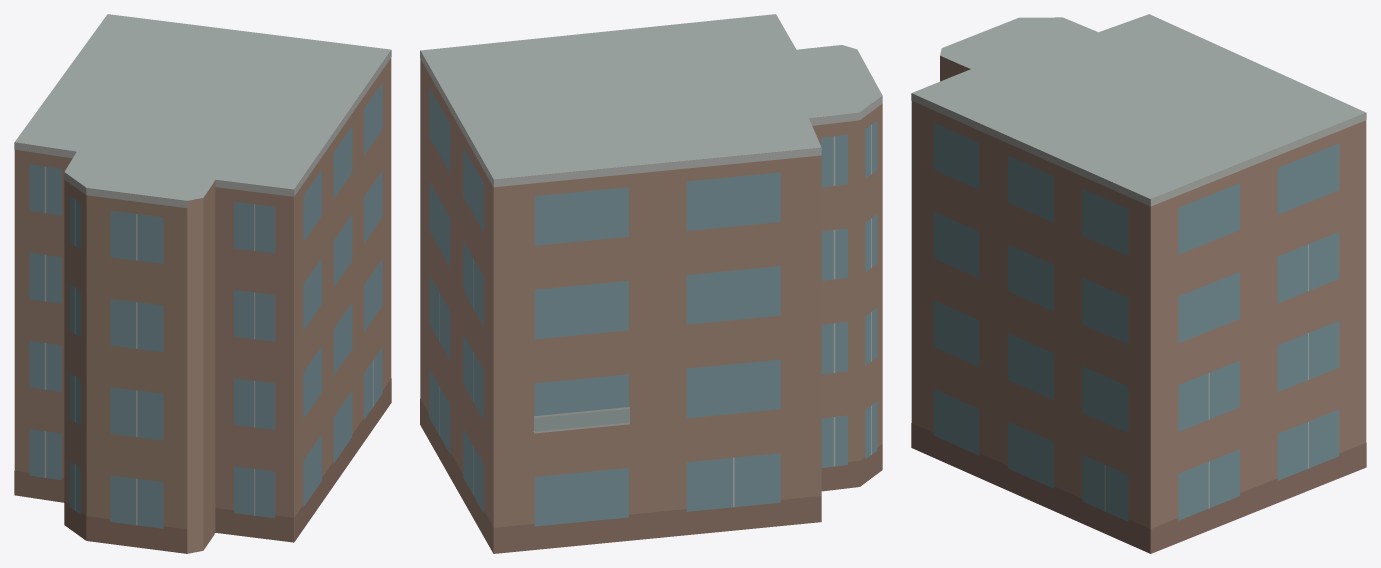
File: survey-upis-32722296.glb
3 renders of one model, left to right at view 1: azimuth 30°, elevation 25°; view 2: azimuth 150°, elevation 25°; view 3: azimuth 270°, elevation 25°, orthographic. The views are drawn at different scales.
Visible parts, largest first — view 1: survey-upis-32722296.tmp; view 2: survey-upis-32722296.tmp; view 3: survey-upis-32722296.tmp.
Part boxes in pixels (bbox=[...]): survey-upis-32722296.tmp: bbox=[14, 14, 391, 553]; survey-upis-32722296.tmp: bbox=[420, 14, 882, 553]; survey-upis-32722296.tmp: bbox=[911, 14, 1366, 553].
Size of the model in its own units: 13.09 by 11.68 by 13.59.
